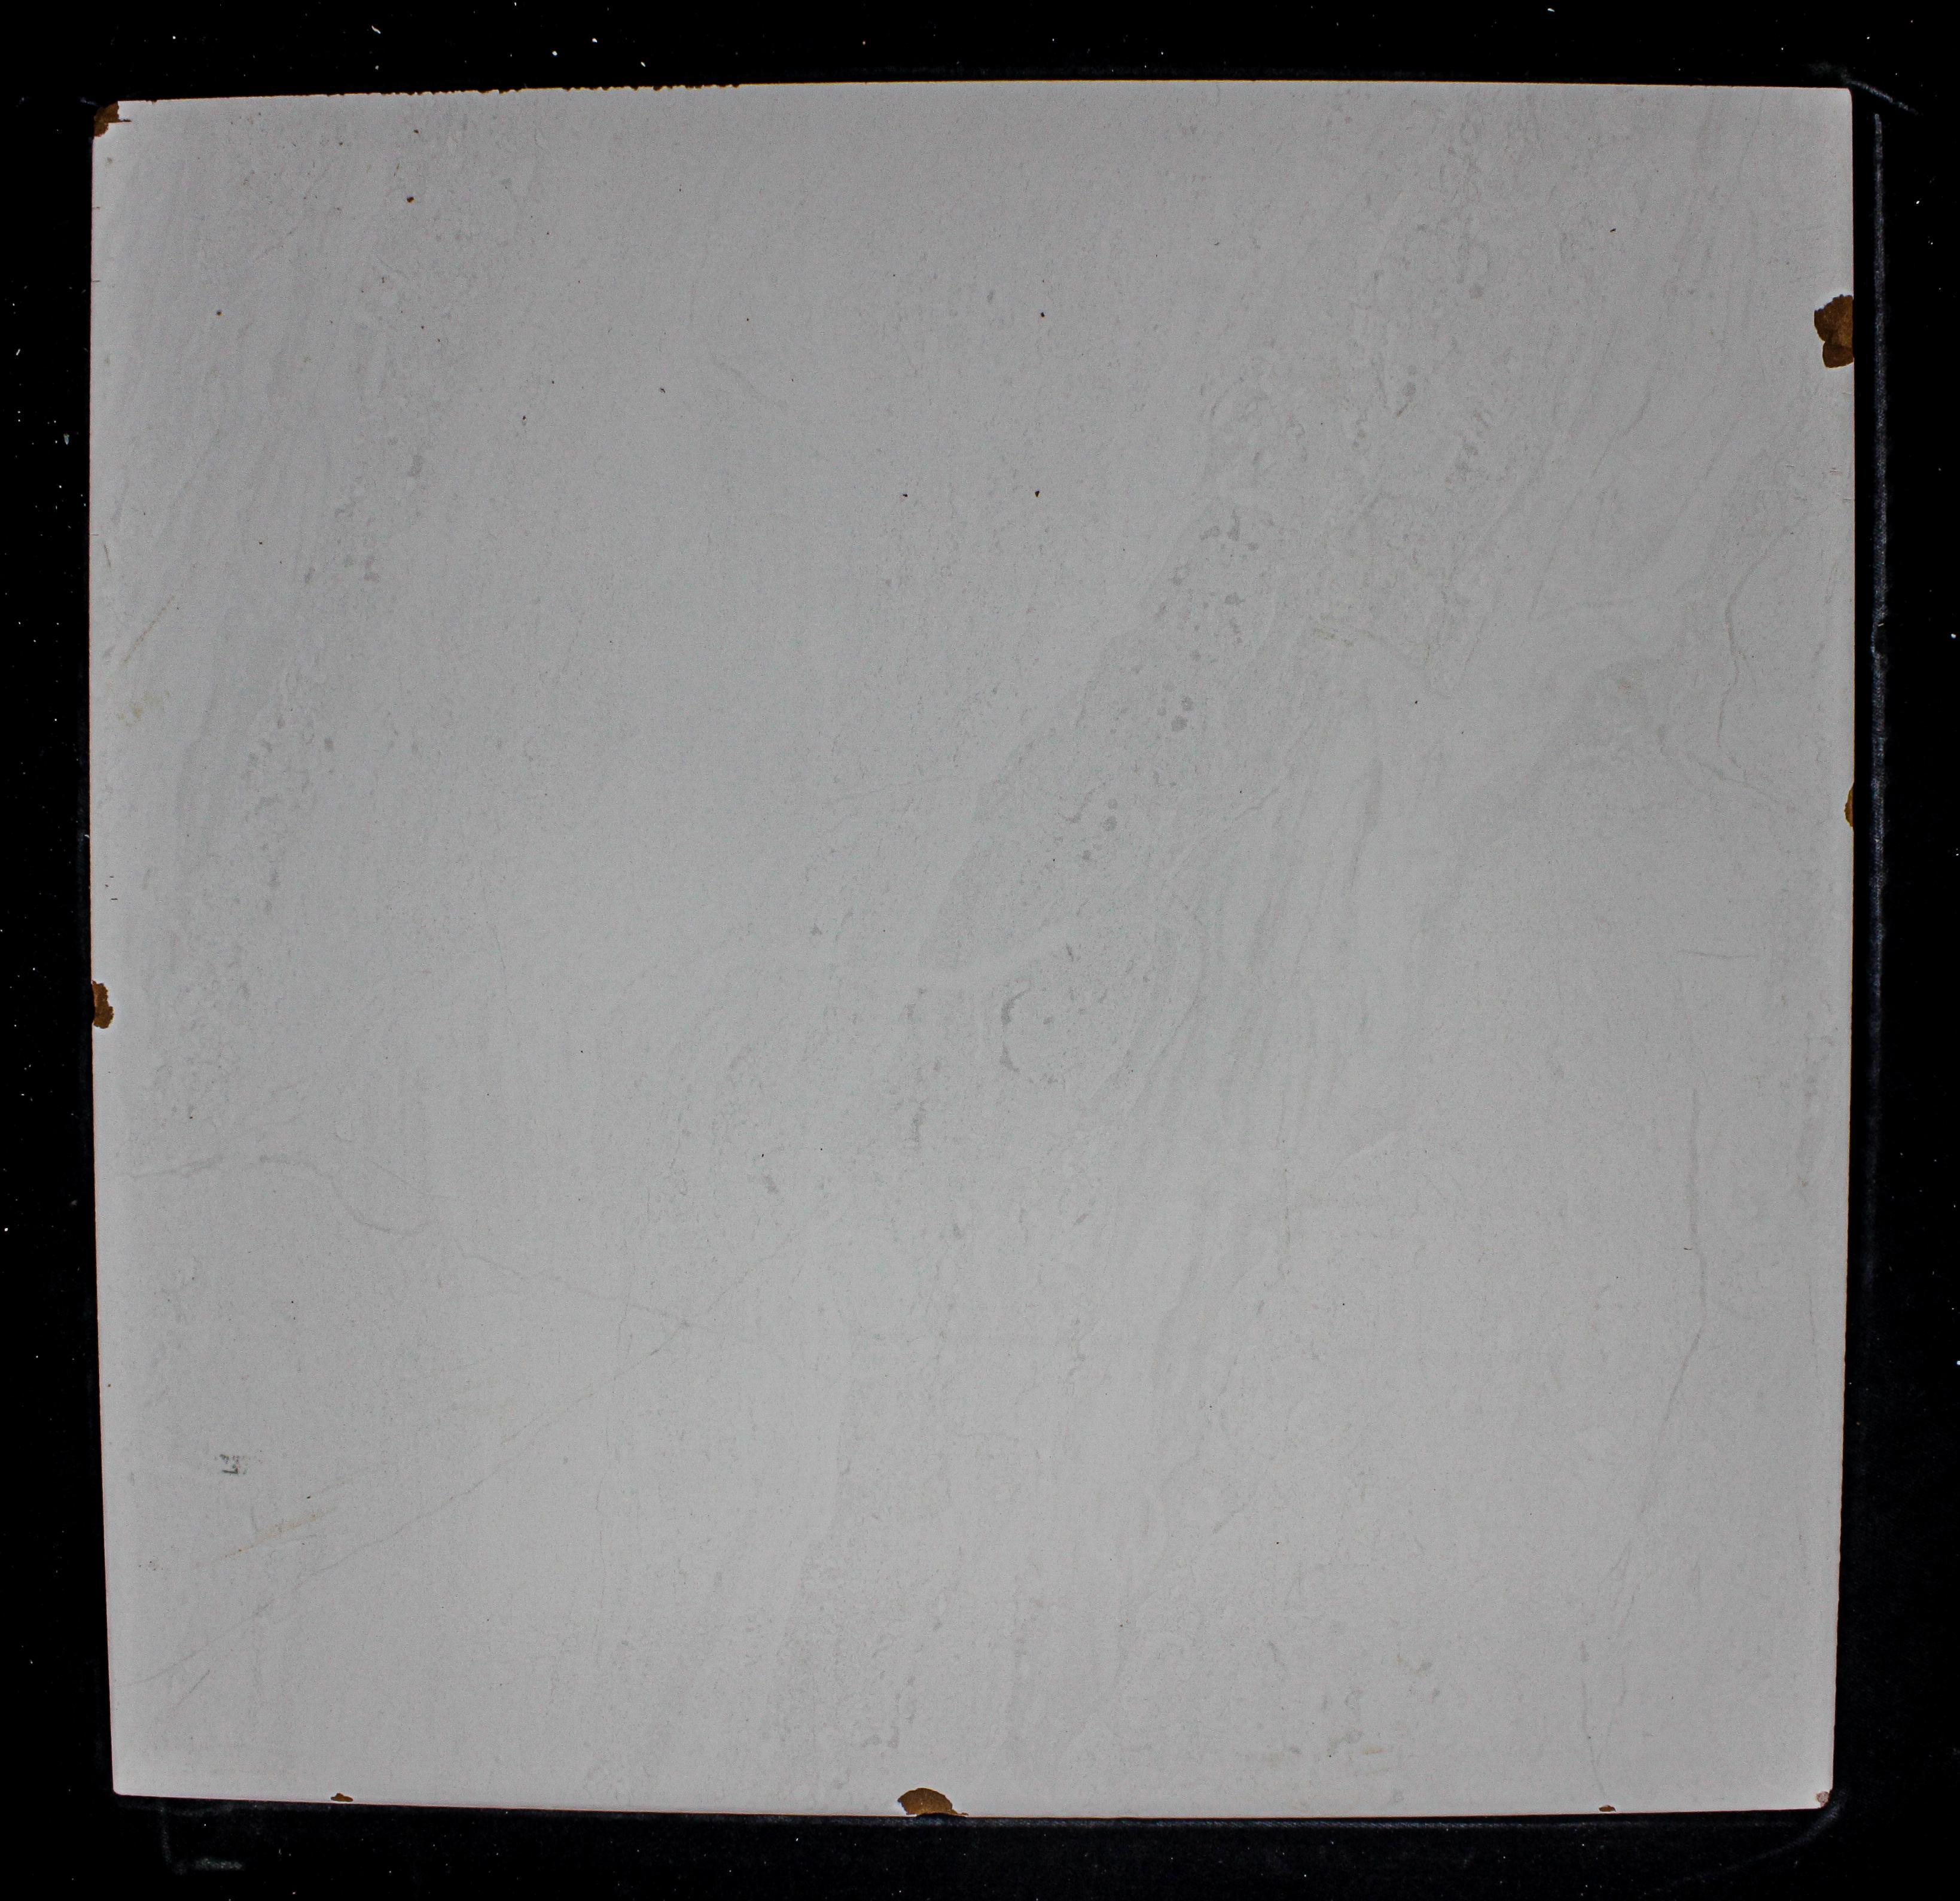edge-chipping: (1811, 292, 1858, 369), (896, 1785, 970, 1822), (87, 980, 115, 1029), (89, 100, 119, 138), (1844, 782, 1857, 831), (1817, 1789, 1834, 1810), (331, 1792, 355, 1801)
hole: (406, 193, 418, 205), (1038, 310, 1048, 320), (1032, 488, 1041, 499)
